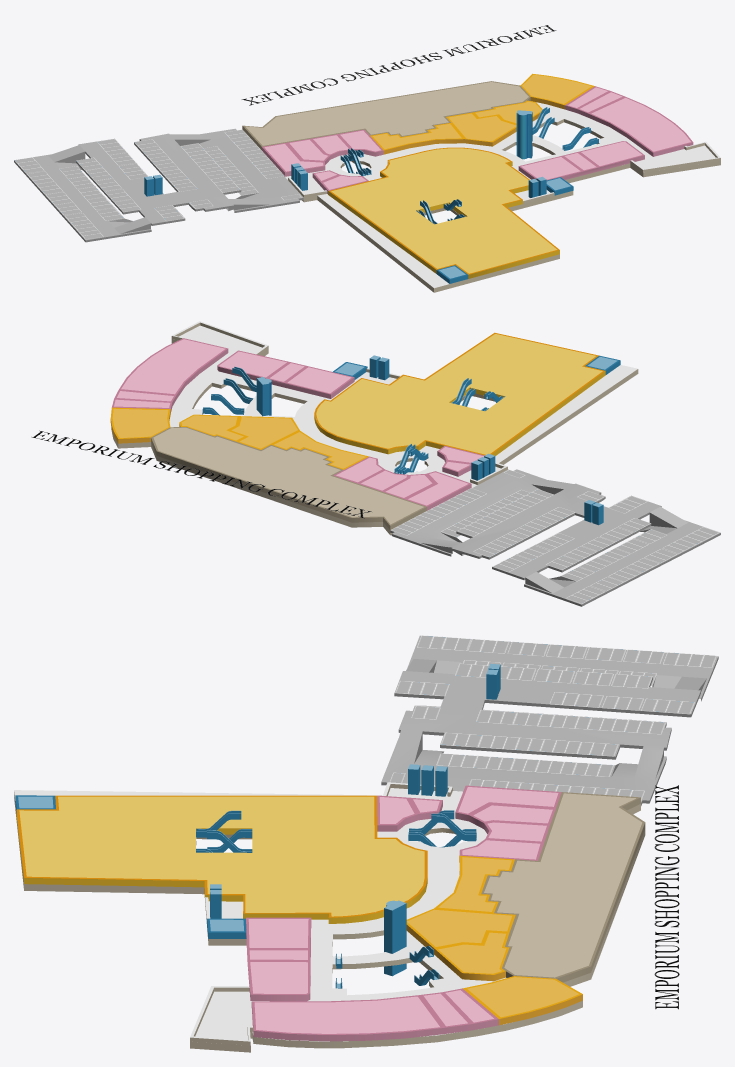
The model's file is emp_1F.FBX.
3 views of the same model, one above another, from view 1: azimuth 30°, elevation 25°; view 2: azimuth 150°, elevation 25°; view 3: azimuth 270°, elevation 25° (orthographic). The views are drawn at different scales.
Parts seen in each view (by area): view 1: emp_1F_tri; view 2: emp_1F_tri; view 3: emp_1F_tri.
Boxes of the visible parts, x1=… form: emp_1F_tri: x1=14, y1=25, x2=720, y2=292; emp_1F_tri: x1=31, y1=321, x2=720, y2=606; emp_1F_tri: x1=14, y1=635, x2=718, y2=1052.
Bounding box in the file's own units: 180 × 13.43 × 131.
3 materials, 3 textured.
